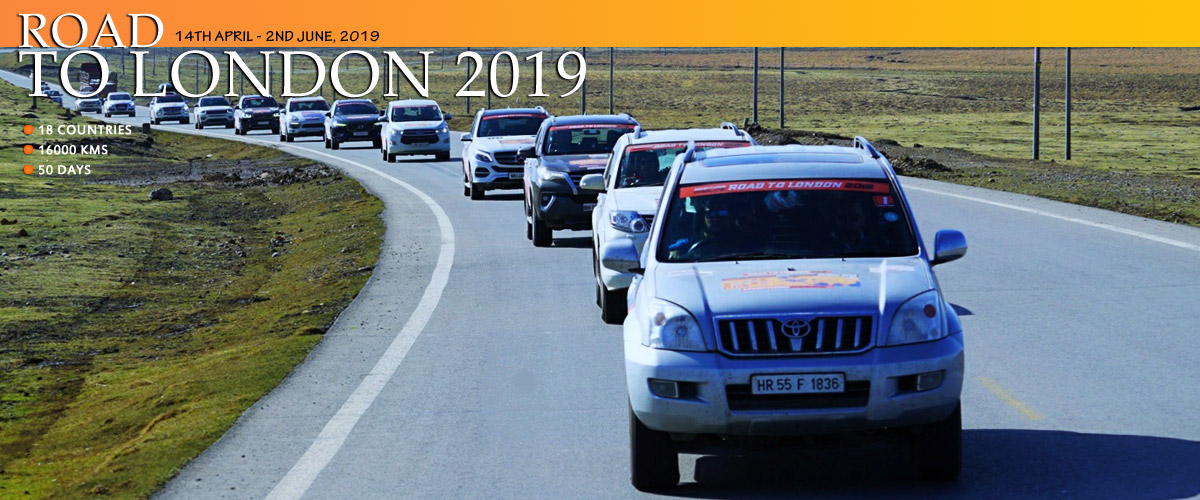number_plate: (740, 365, 853, 398)
